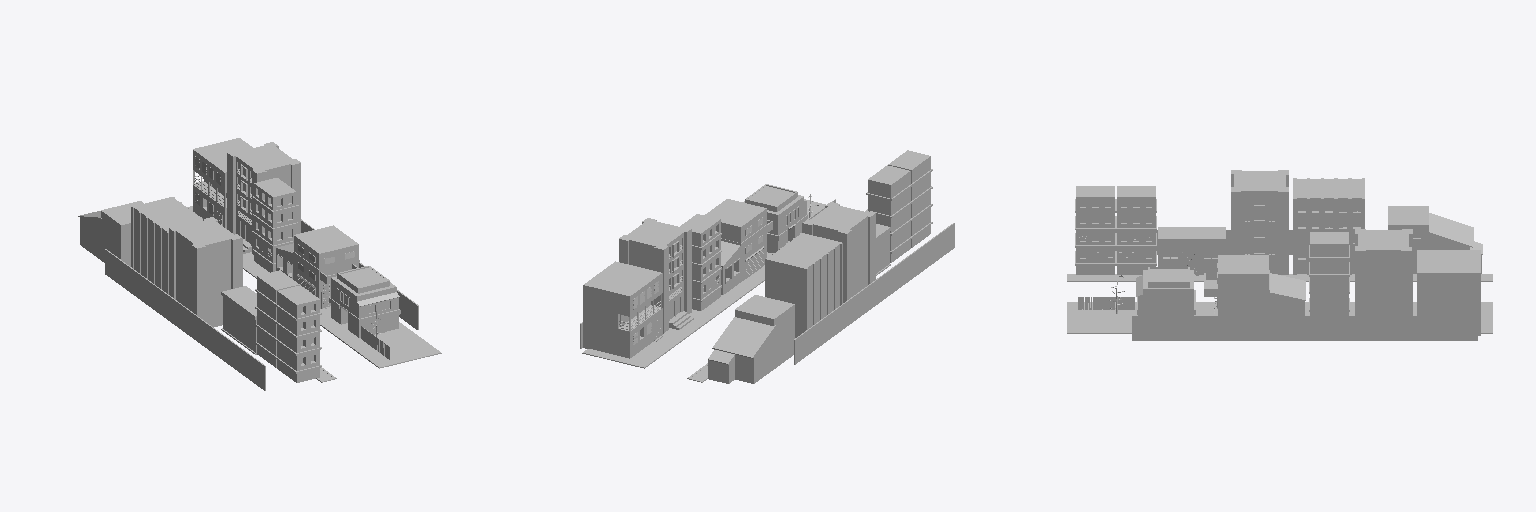
The model's file is vraieville.obj.
3 renders of one model, left to right at view 1: azimuth 30°, elevation 25°; view 2: azimuth 150°, elevation 25°; view 3: azimuth 270°, elevation 25°, orthographic.
Visible parts, largest first — view 1: immeuble3.1, mur_fond2, immeuble4_bis.1, immeuble2_bis.1, immeuble1.2, immeuble1_bis.1, immeuble4.1, immeuble3_bis.1, trottoirs.1, immeuble5_bis.1, immeuble5.1, immeuble1.1 (+2 smaller); view 2: immeuble5_bis.1, immeuble5.1, immeuble4.1, immeuble4_bis.1, mur_fond2, immeuble3.1, immeuble2_bis.1, trottoirs.1, immeuble1.1, immeuble3_bis.1, immeuble1_bis.1, immeuble1.2 (+1 smaller); view 3: mur_fond, immeuble3.1, immeuble4_bis.1, immeuble2_bis.1, immeuble4.1, immeuble5_bis.1, immeuble1.2, immeuble1.1, trottoirs.1, immeuble3_bis.1, immeuble5.1, immeuble2.1 (+2 smaller).
Part boxes in pixels (bbox=[...]): immeuble3.1: bbox=[169, 217, 242, 327]; mur_fond2: bbox=[105, 249, 265, 390]; immeuble4_bis.1: bbox=[227, 142, 300, 254]; immeuble2_bis.1: bbox=[276, 225, 359, 308]; immeuble1.2: bbox=[275, 285, 321, 382]; immeuble1_bis.1: bbox=[329, 266, 400, 337]; immeuble4.1: bbox=[131, 197, 202, 294]; immeuble3_bis.1: bbox=[252, 178, 298, 272]; trottoirs.1: bbox=[188, 206, 441, 382]; immeuble5_bis.1: bbox=[193, 138, 252, 228]; immeuble5.1: bbox=[78, 201, 143, 266]; immeuble1.1: bbox=[255, 270, 299, 367]; immeuble5_bis.1: bbox=[583, 261, 662, 358]; immeuble5.1: bbox=[708, 295, 794, 383]; immeuble4.1: bbox=[765, 233, 842, 337]; immeuble4_bis.1: bbox=[619, 218, 693, 333]; mur_fond2: bbox=[794, 223, 954, 364]; immeuble3.1: bbox=[802, 202, 875, 302]; immeuble2_bis.1: bbox=[704, 199, 772, 294]; trottoirs.1: bbox=[582, 199, 825, 382]; immeuble1.1: bbox=[866, 165, 911, 262]; immeuble3_bis.1: bbox=[680, 214, 721, 310]; immeuble1_bis.1: bbox=[743, 184, 807, 252]; immeuble1.2: bbox=[888, 150, 932, 247]; mur_fond: bbox=[1132, 316, 1477, 340]; immeuble3.1: bbox=[1231, 170, 1288, 274]; immeuble4_bis.1: bbox=[1355, 229, 1412, 315]; immeuble2_bis.1: bbox=[1204, 255, 1305, 315]; immeuble4.1: bbox=[1293, 178, 1364, 274]; immeuble5_bis.1: bbox=[1417, 250, 1480, 335]; immeuble1.2: bbox=[1075, 186, 1115, 274]; immeuble1.1: bbox=[1116, 186, 1156, 274]; trottoirs.1: bbox=[1067, 274, 1492, 333]; immeuble3_bis.1: bbox=[1309, 232, 1349, 315]; immeuble5.1: bbox=[1388, 206, 1482, 273]; immeuble2.1: bbox=[1158, 227, 1225, 275].
Size of the model in its own units: 1212 by 592 by 2510.